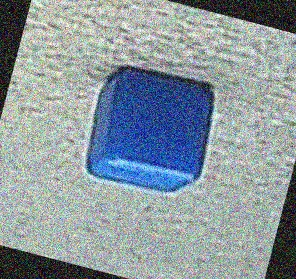blue_cube: (82, 59, 220, 203)
